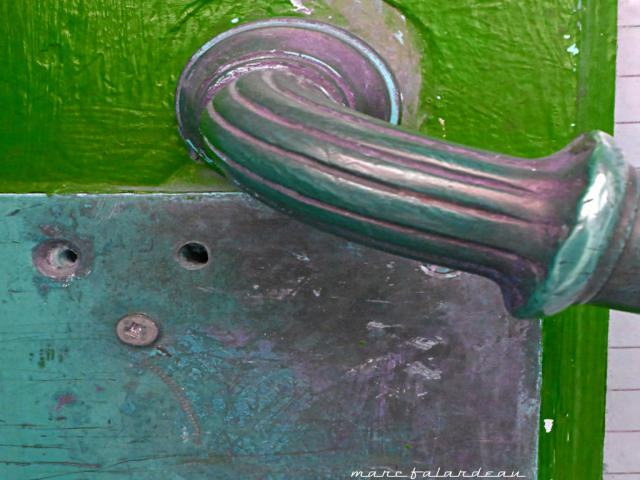Door-handle: (173, 16, 640, 317)
